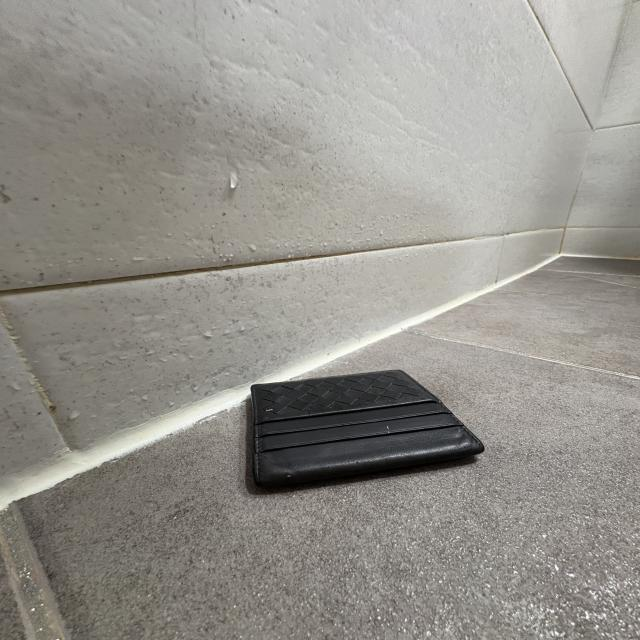wallet: (241, 366, 488, 496)
